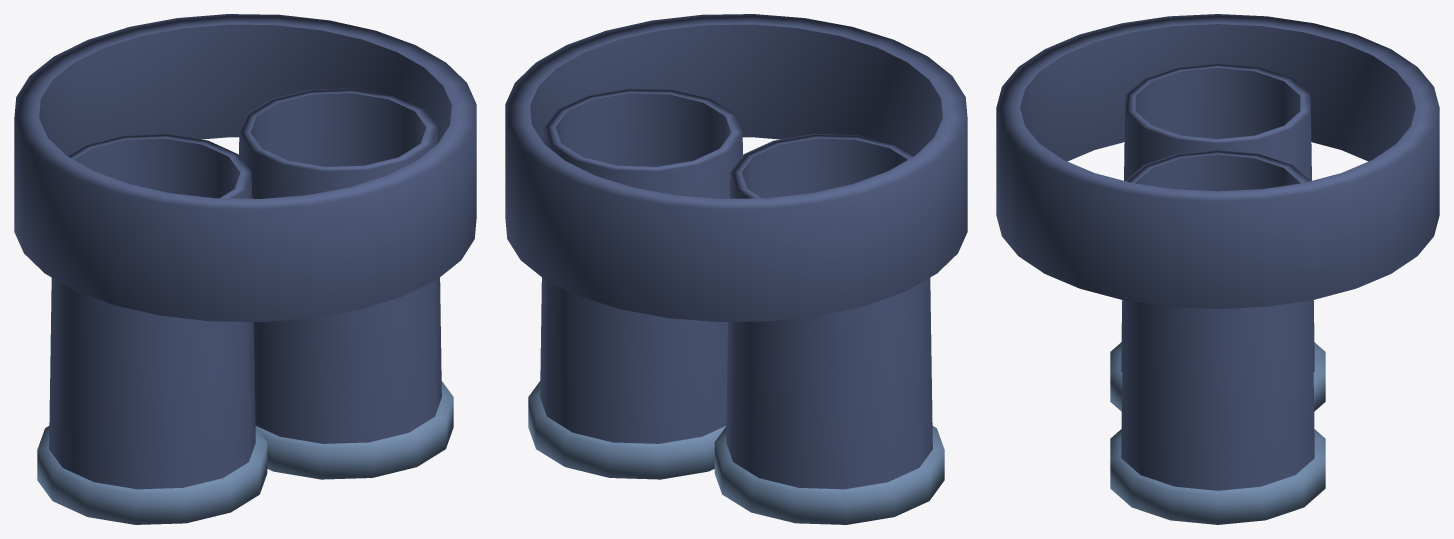
The model's file is denim_painters_pants.glb.
The picture shows the model from 3 angles, left to right: view 1: azimuth 30°, elevation 25°; view 2: azimuth 150°, elevation 25°; view 3: azimuth 270°, elevation 25°; orthographic projection. The views are drawn at different scales.
Visible parts, largest first — view 1: denim_painters_pants_Body, denim_painters_pants_LegL, denim_painters_pants_LegR; view 2: denim_painters_pants_Body, denim_painters_pants_LegL, denim_painters_pants_LegR; view 3: denim_painters_pants_Body, denim_painters_pants_LegR, denim_painters_pants_LegL.
Part boxes in pixels (<box>): denim_painters_pants_Body: <box>14,14,476,322</box>; denim_painters_pants_LegL: <box>37,134,267,524</box>; denim_painters_pants_LegR: <box>239,88,453,479</box>; denim_painters_pants_Body: <box>505,14,967,322</box>; denim_painters_pants_LegL: <box>714,134,944,524</box>; denim_painters_pants_LegR: <box>528,88,742,479</box>; denim_painters_pants_Body: <box>996,14,1439,308</box>; denim_painters_pants_LegR: <box>1110,150,1325,524</box>; denim_painters_pants_LegL: <box>1110,63,1325,411</box>.
Bounding box in the file's own units: 0.41 × 0.334 × 0.41.
